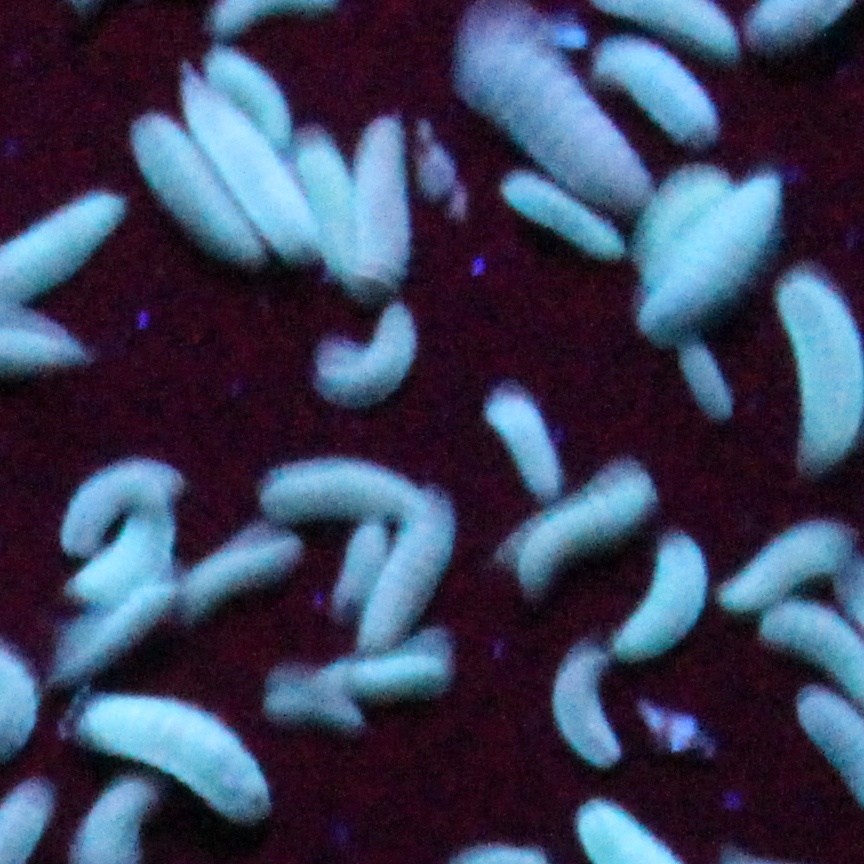larve: (180, 63, 319, 261), (67, 697, 278, 822), (638, 169, 788, 338), (128, 117, 269, 261), (505, 463, 661, 586), (361, 494, 453, 653), (594, 38, 717, 147), (55, 574, 178, 680), (178, 526, 301, 622), (715, 519, 859, 601), (615, 528, 705, 659), (311, 628, 471, 699), (61, 461, 182, 551), (307, 305, 423, 397), (501, 176, 626, 257), (484, 386, 571, 497), (255, 461, 430, 515), (634, 163, 723, 265), (209, 47, 292, 151), (553, 642, 621, 765), (361, 109, 403, 297), (328, 522, 386, 613), (680, 342, 740, 424), (269, 684, 367, 730)
